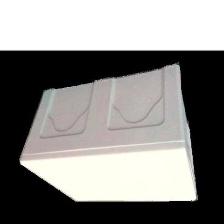foam_box: (14, 57, 204, 208)
